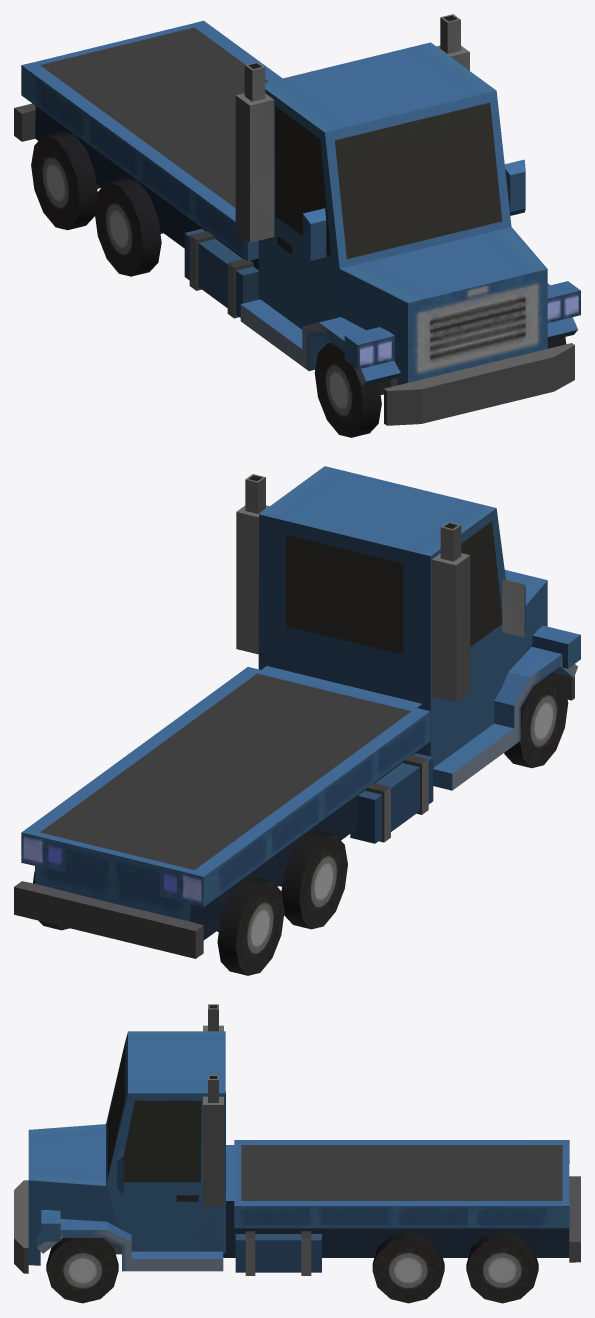
File: large_truck.fbx
3 views of the same model, one above another, from view 1: azimuth 30°, elevation 25°; view 2: azimuth 150°, elevation 25°; view 3: azimuth 270°, elevation 25° (orthographic). The views are drawn at different scales.
Parts seen in each view (by area): view 1: large_truck; view 2: large_truck; view 3: large_truck.
Part boxes in pixels (x1,y1,x2,y2): large_truck: [14, 14, 580, 437]; large_truck: [14, 466, 580, 975]; large_truck: [14, 1004, 580, 1303].
Size of the model in its own units: 3.67 by 4.75 by 10.89.
